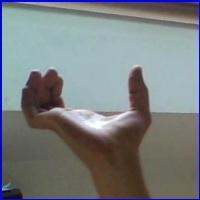B: (14, 58, 165, 161)
